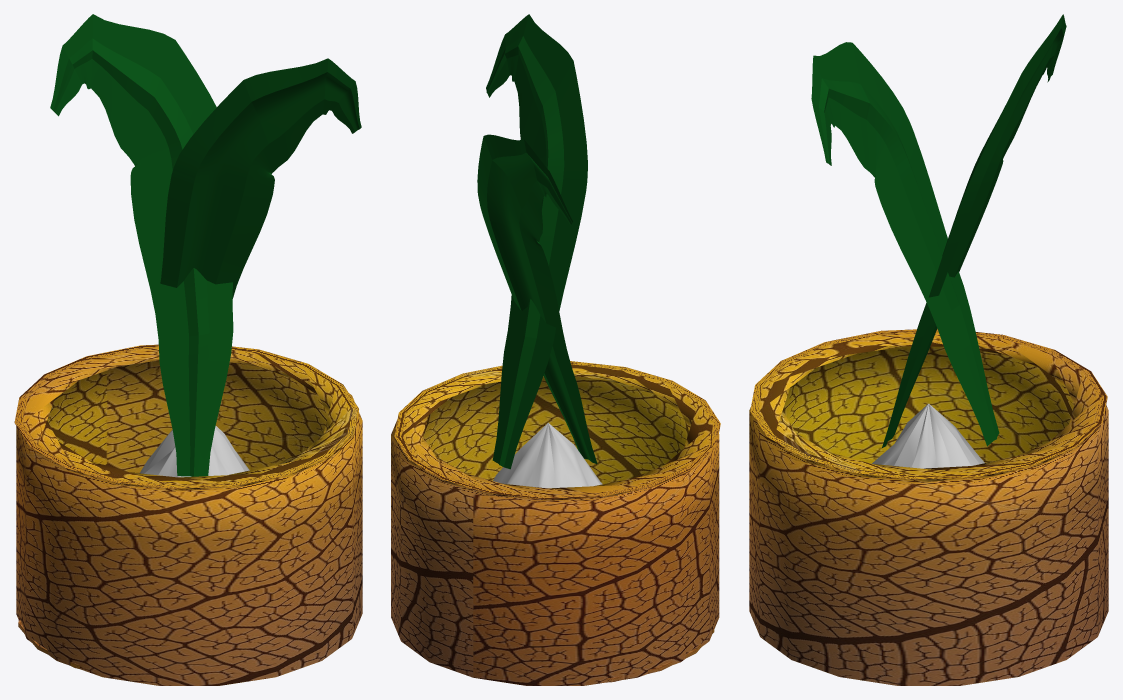
Rendered from ovosch.DAE.
3 views of the same model, side by side, from view 1: azimuth 30°, elevation 25°; view 2: azimuth 150°, elevation 25°; view 3: azimuth 270°, elevation 25° (orthographic). The views are drawn at different scales.
Parts seen in each view (by area): view 1: Tube001, Loft002, Loft001, Cone001; view 2: Tube001, Loft001, Loft002, Cone001; view 3: Tube001, Loft001, Loft002, Cone001.
Boxes of the visible parts, box(x1,y1,x2,y2) form: Tube001: box(14, 344, 362, 685); Loft002: box(50, 14, 233, 476); Loft001: box(160, 58, 361, 298); Cone001: box(140, 426, 249, 477); Tube001: box(391, 361, 720, 685); Loft001: box(486, 14, 587, 469); Loft002: box(477, 134, 597, 463); Cone001: box(493, 422, 602, 488); Tube001: box(749, 329, 1108, 685); Loft001: box(811, 42, 999, 446); Loft002: box(882, 14, 1066, 447); Cone001: box(872, 403, 984, 468).
Size of the model in its own units: 33.85 by 62.59 by 33.89.
